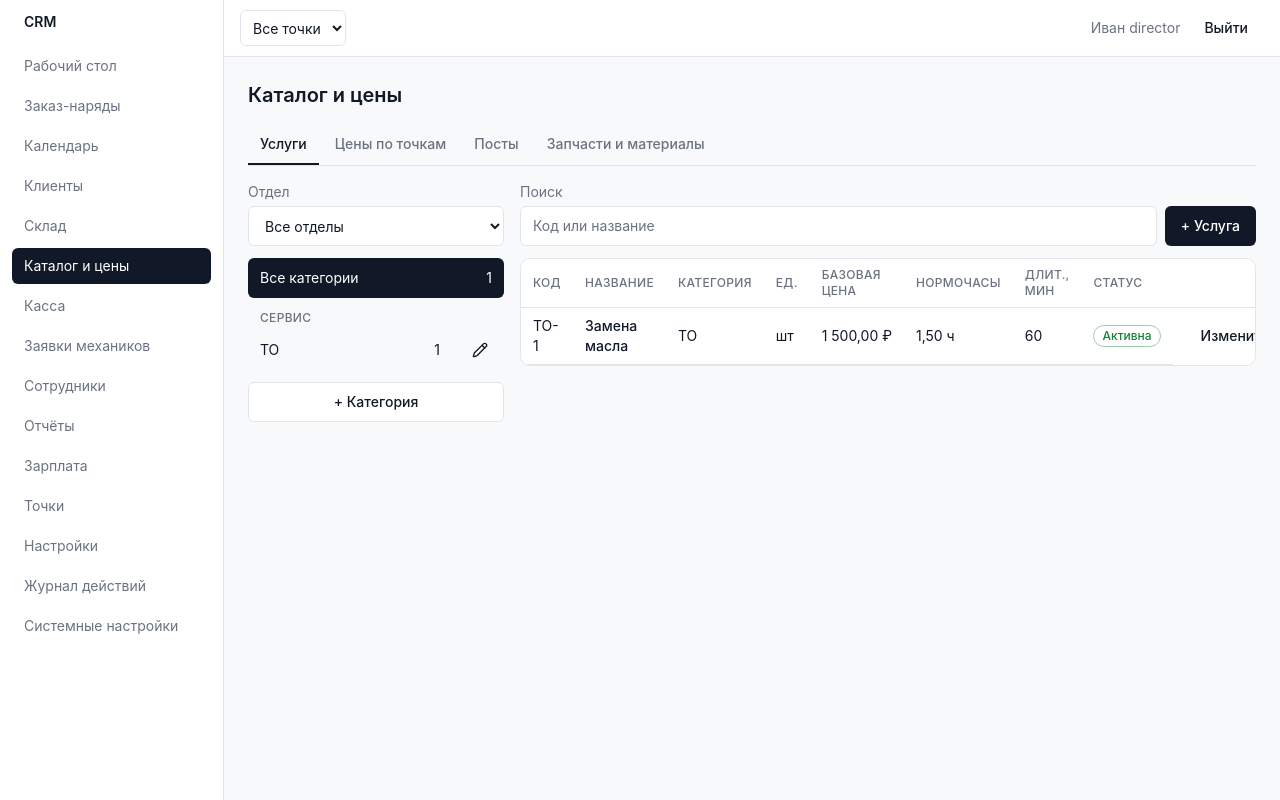
E2E: категория → услуга → цена для точки → сброс › неверная цена не отправляется, ошибка у поля
Click the tab "Цены по точкам" at (391, 145), box [323, 125, 458, 165]
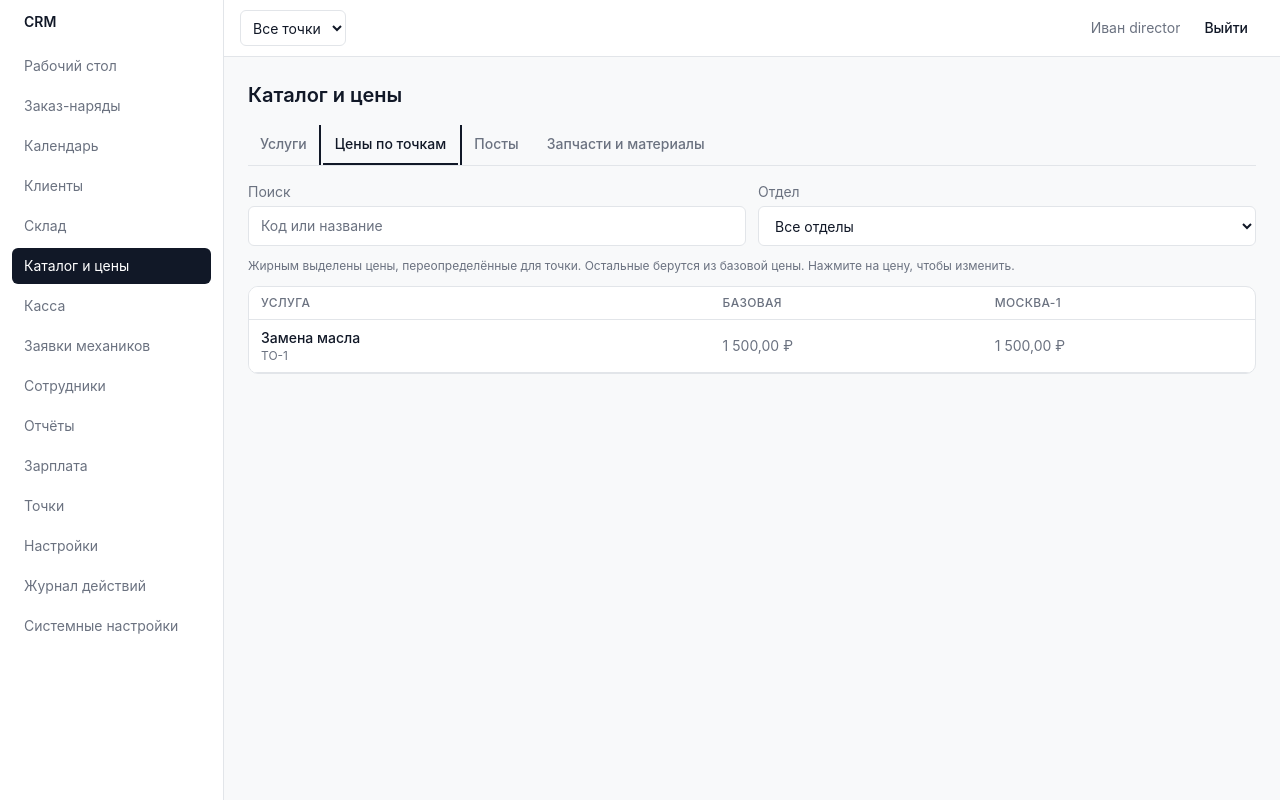
Click the button named "Замена масла, Москва-1" at (1030, 346), box [987, 326, 1251, 366]
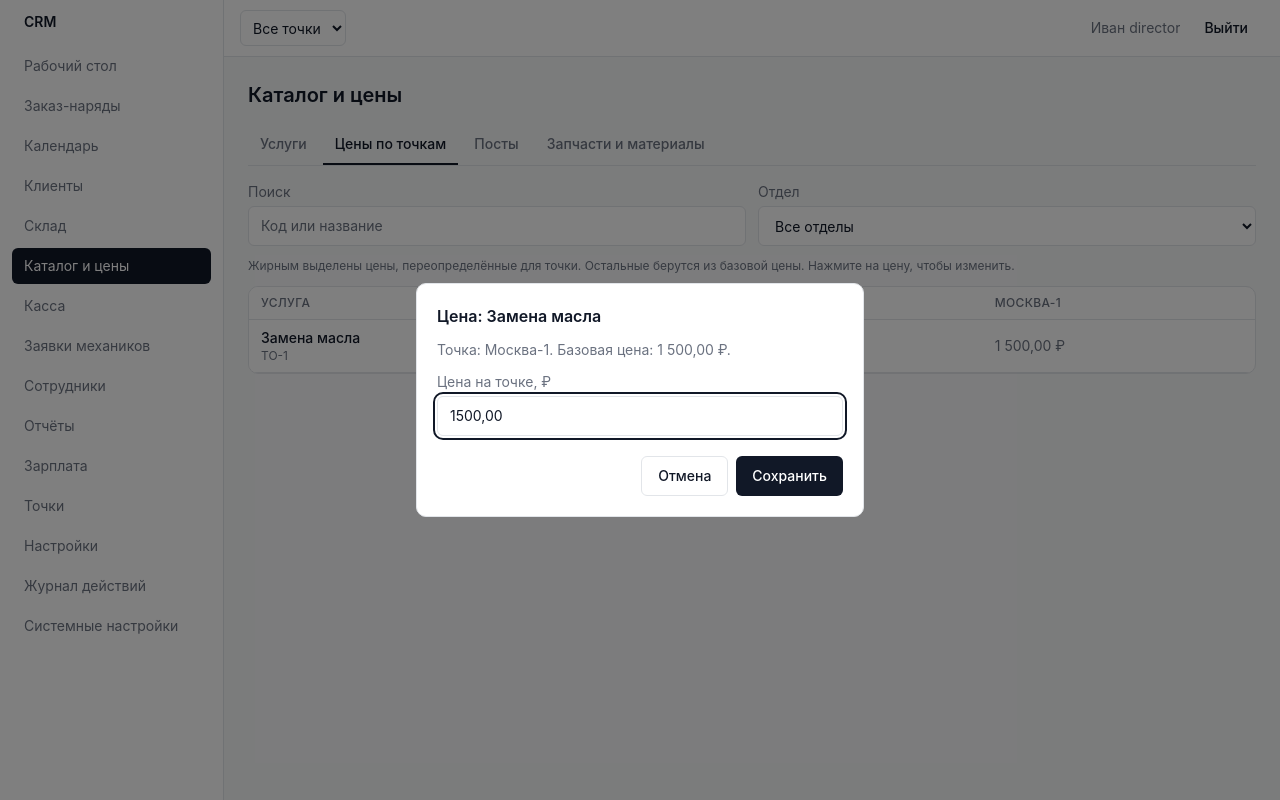
Replace the text in the field labelled "Цена на точке, ₽" with "12,345" at (640, 416), box [437, 396, 843, 436]
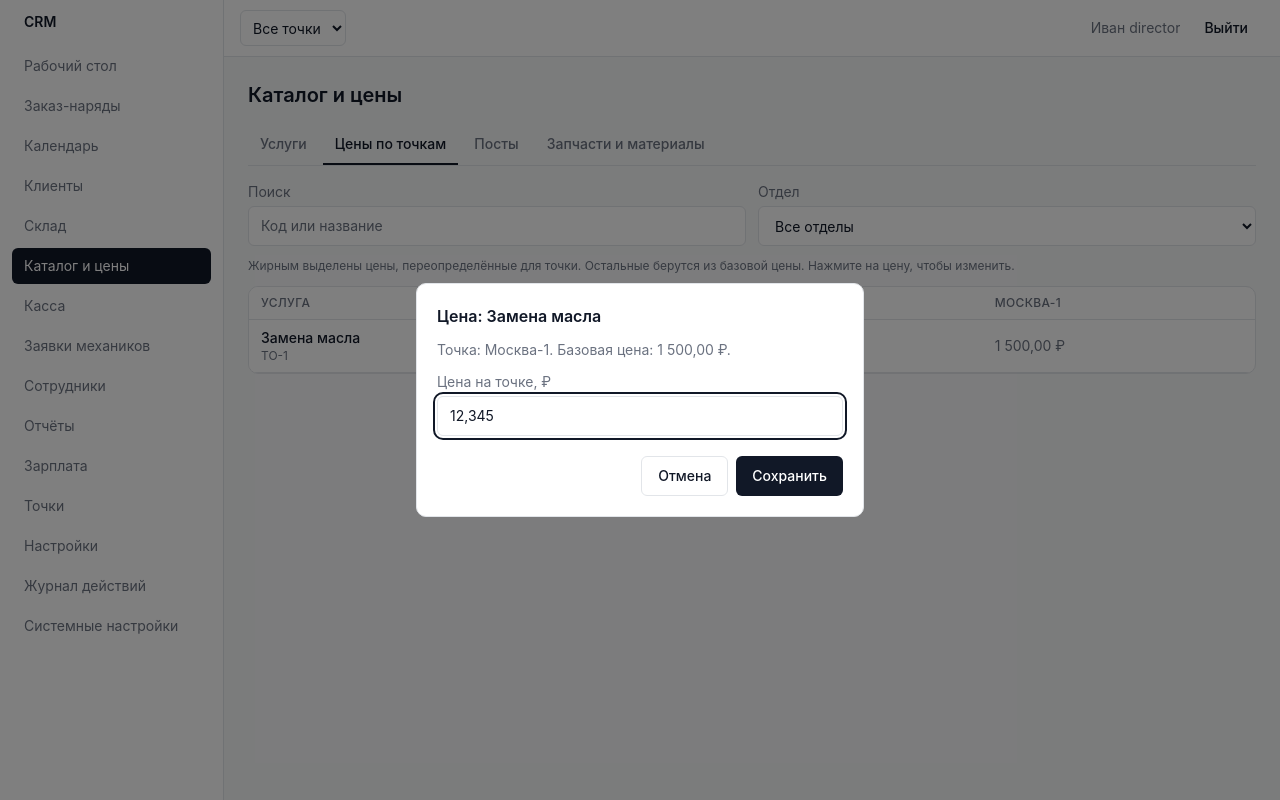
Click the button "Сохранить" at (790, 476), box [736, 456, 843, 496]
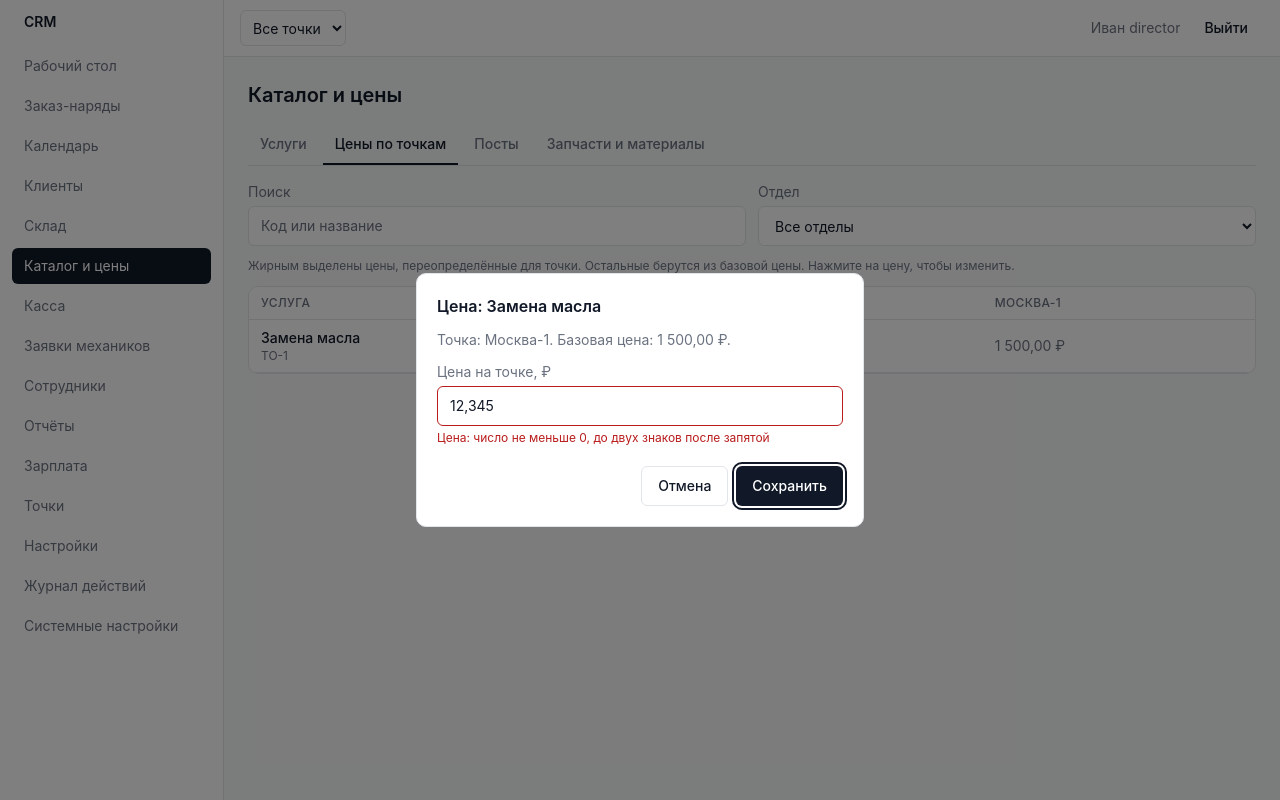
Check: the message shows "Цена:", box [437, 430, 770, 445]
